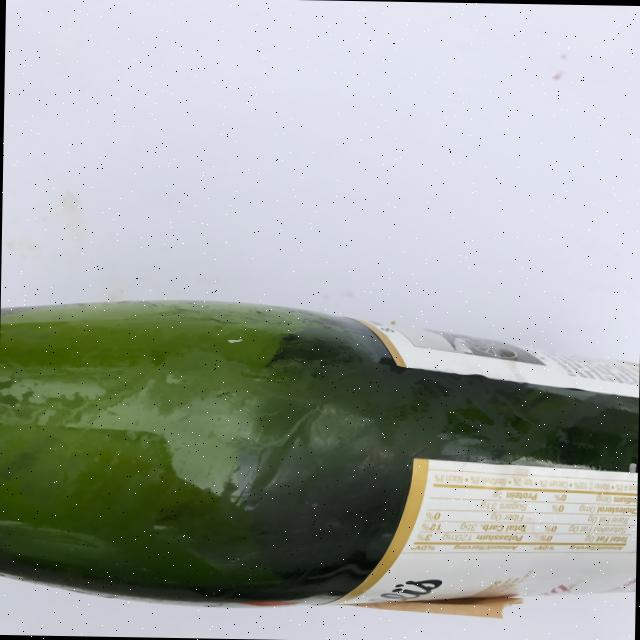glass: (0, 295, 639, 615)
